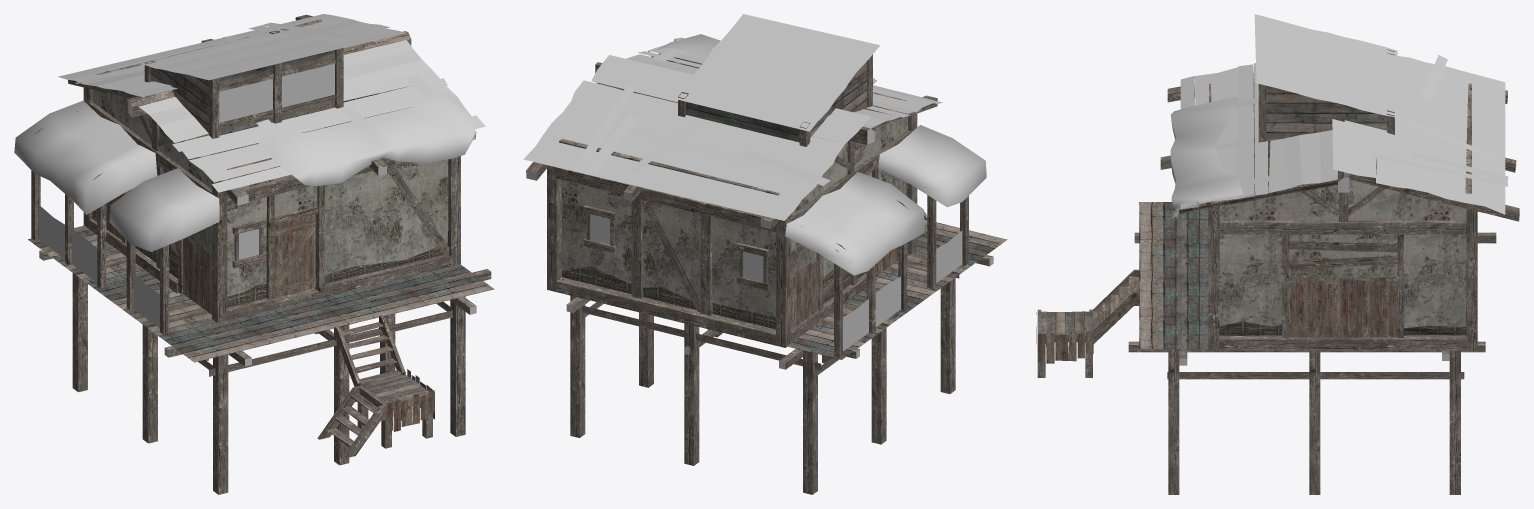
File: House5_LOD2.fbx
The picture shows the model from 3 angles, left to right: view 1: azimuth 30°, elevation 25°; view 2: azimuth 150°, elevation 25°; view 3: azimuth 270°, elevation 25°; orthographic projection. The views are drawn at different scales.
Visible parts, largest first — view 1: Base, Stairs, Doors; view 2: Base; view 3: Base, Stairs.
Boxes of the visible parts, left/top/right/bottom form: Base: left=14, top=14, right=494, bottom=494; Stairs: left=317, top=315, right=434, bottom=458; Doors: left=274, top=214, right=316, bottom=297; Base: left=523, top=14, right=1007, bottom=494; Base: left=1128, top=14, right=1519, bottom=494; Stairs: left=1036, top=269, right=1139, bottom=377.
Size of the model in its own units: 10.19 by 11.07 by 12.89.
